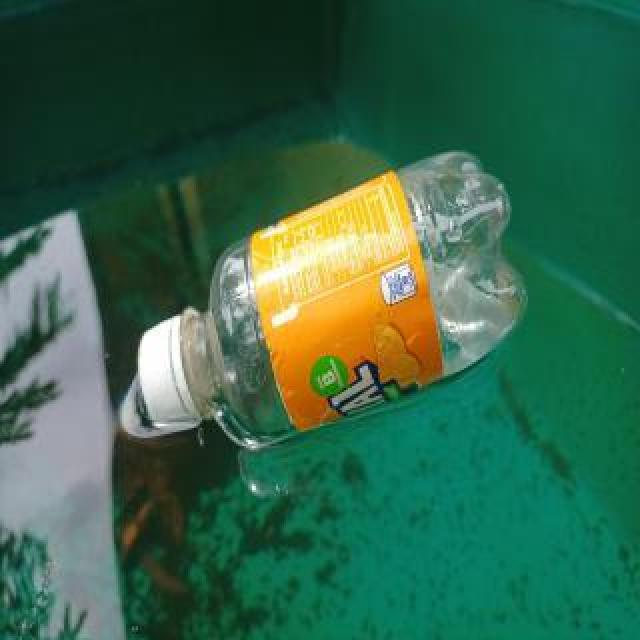bottle: (130, 144, 536, 458)
